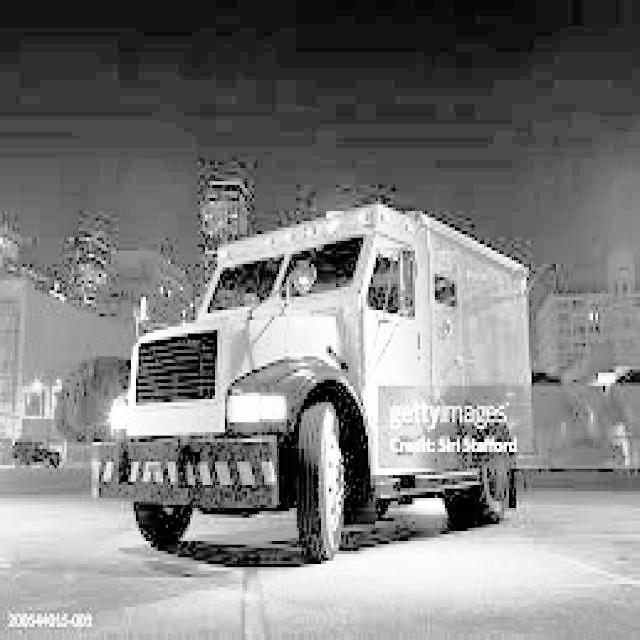Truck: (89, 198, 534, 561)
